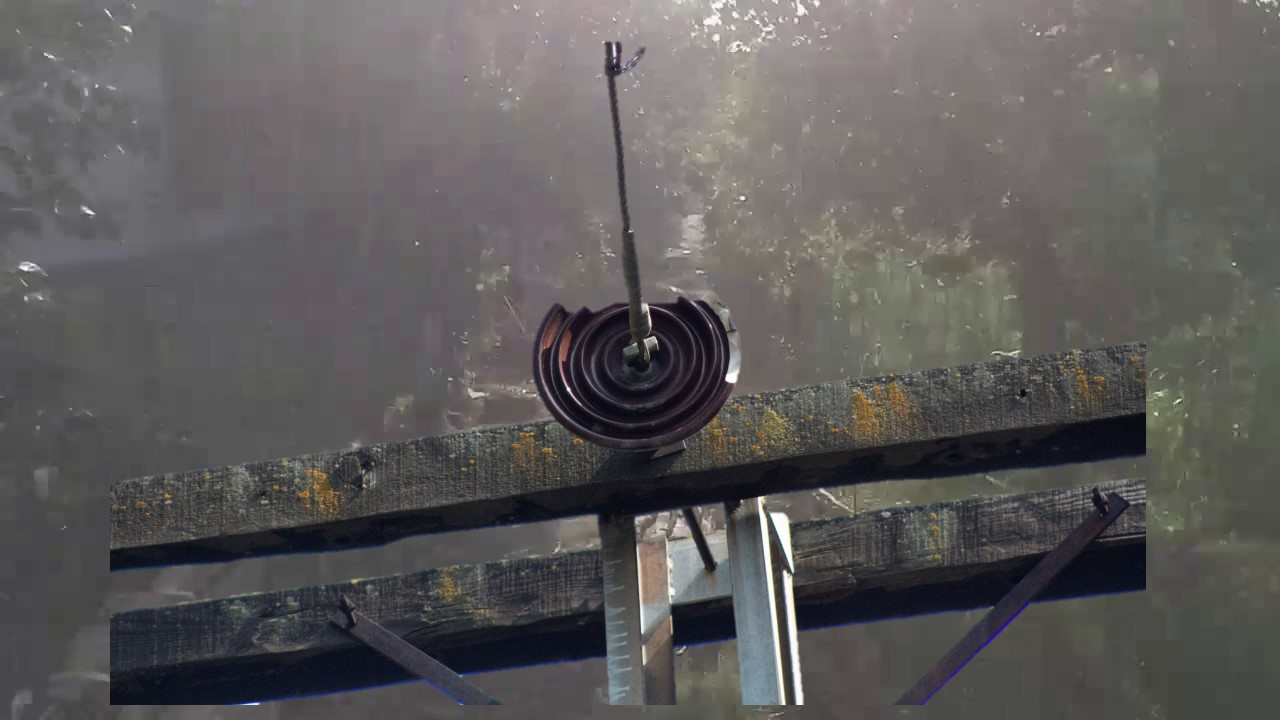defect_disc: (528, 289, 741, 454)
